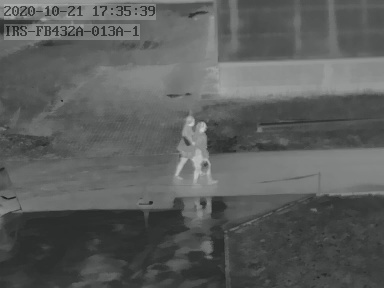person: (173, 115, 197, 180), (194, 120, 215, 185)
